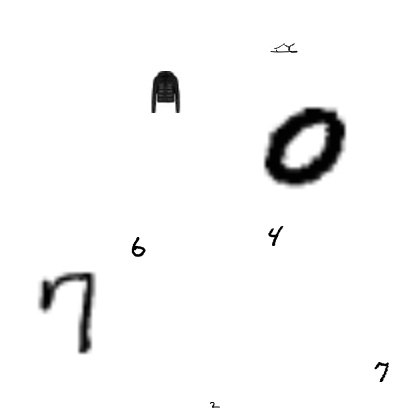0: (249, 88, 361, 200)
2: (207, 398, 221, 412)
4: (260, 221, 288, 249)
6: (123, 234, 151, 262)
7: (15, 245, 127, 357), (368, 355, 396, 383)
Coat: (144, 71, 186, 113)
Sandal: (270, 33, 298, 61)
